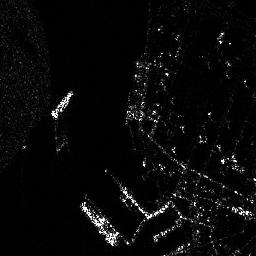ship: (51, 89, 74, 118)
